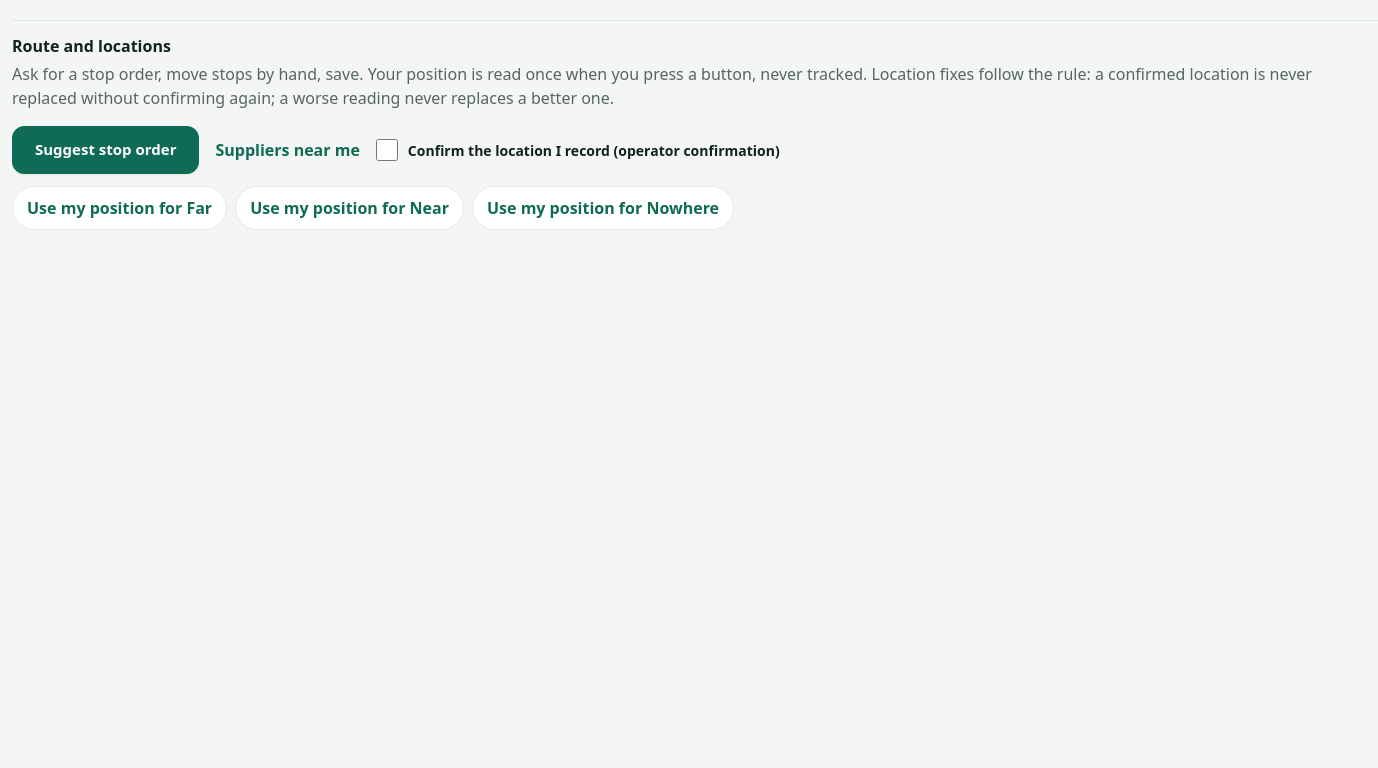
Scenario: suggests a labelled offline stop order, lets the owner reorder by hand and saves it
Click the button "Suggest stop order": x=106, y=150 [12,126,200,174]
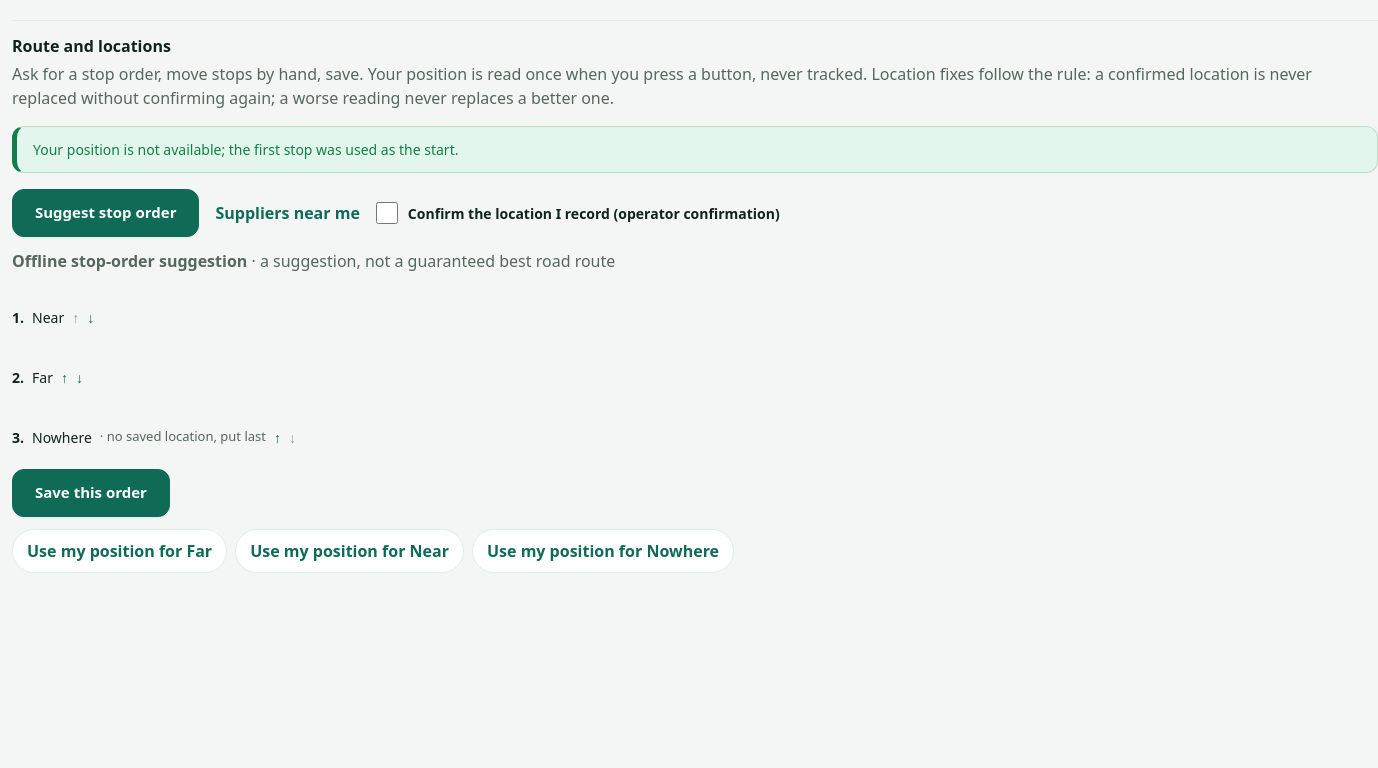
Check: the text "Offline stop-order suggestion" is shown, box [12,250,247,272]
Check: the text "a suggestion, not a guaranteed best road route" is shown, box [260,250,615,272]
Check: the text "· no saved location, put last" is shown, box [100,427,266,447]
Click the button named "Move Far up": x=64, y=377 [61,355,68,399]
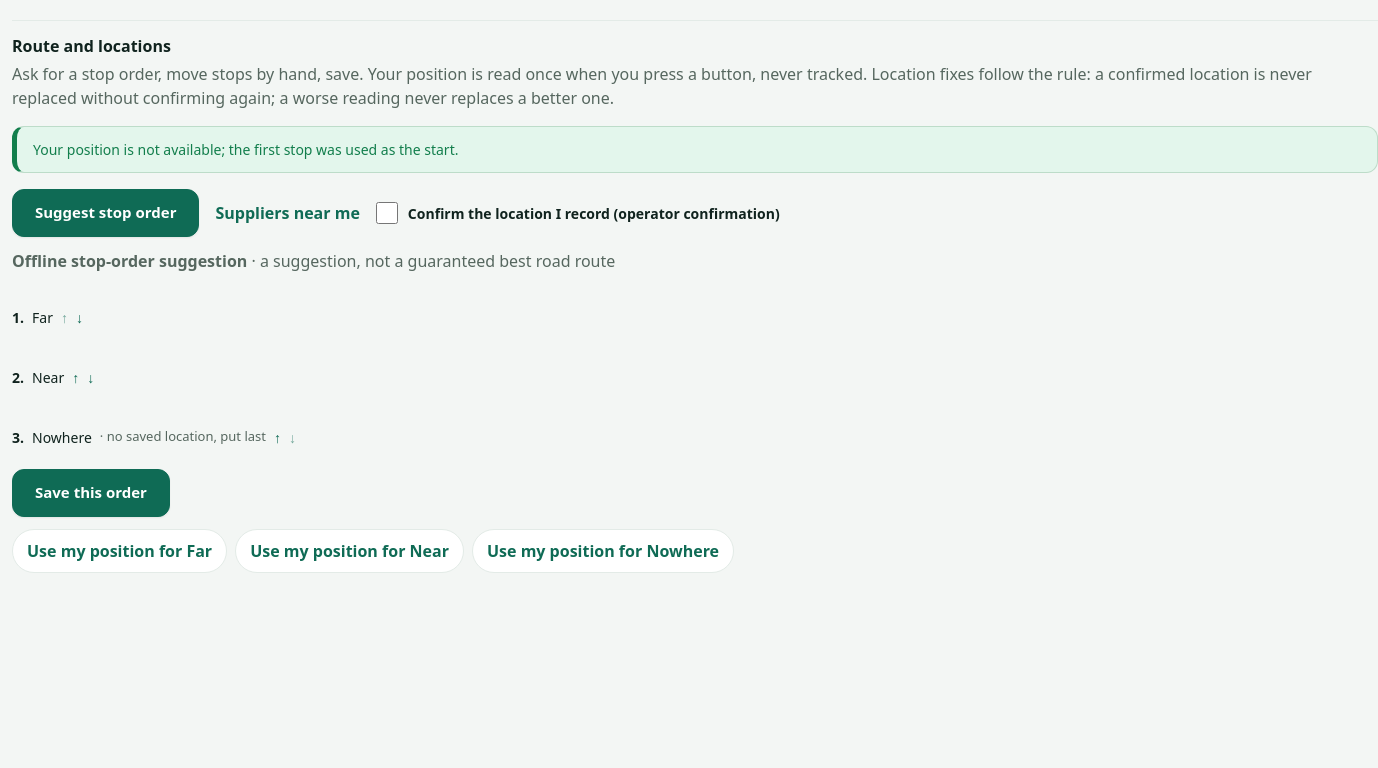
Click the button "Save this order": x=91, y=493 [12,469,170,517]
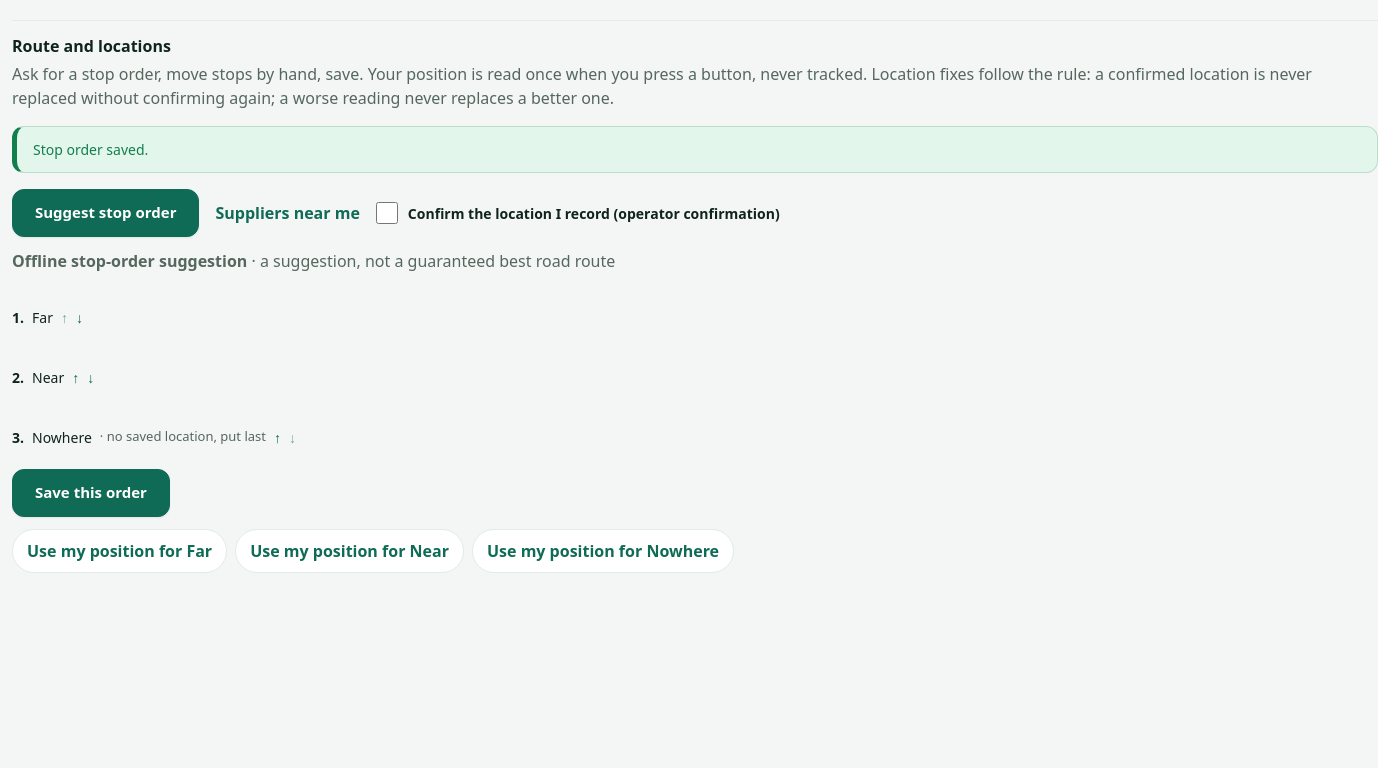
Check: the text "Stop order saved." is shown, box [12,126,1377,173]
